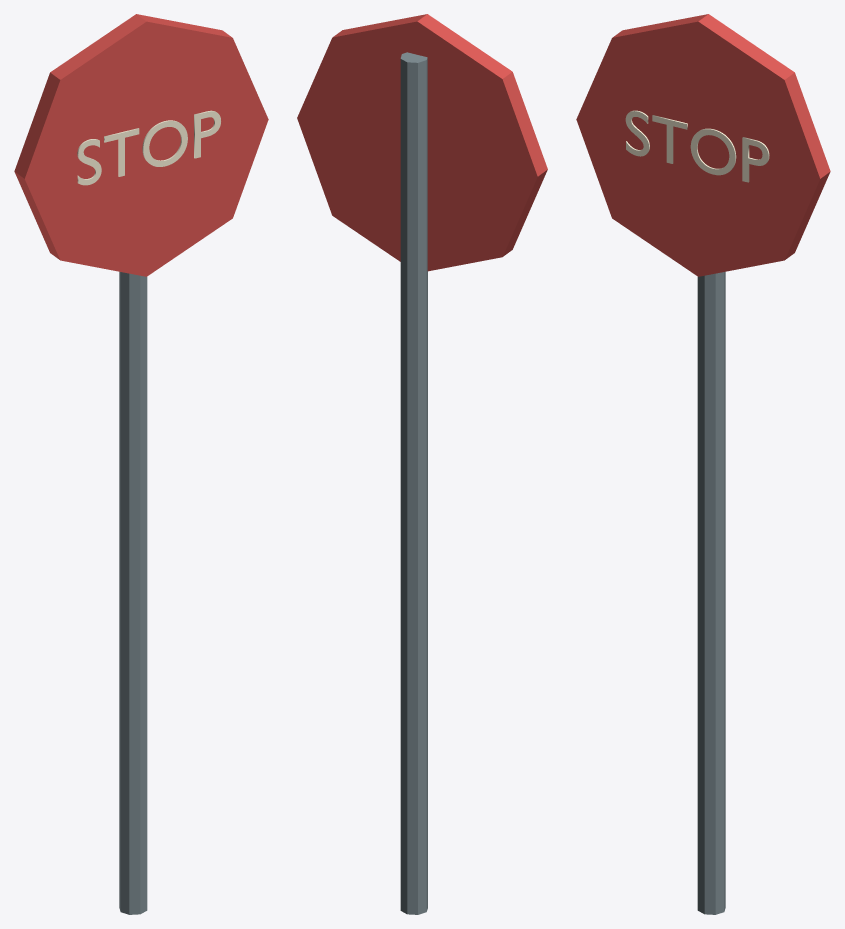
The model's file is StreetSign_Stop.fbx.
3 renders of one model, left to right at view 1: azimuth 30°, elevation 25°; view 2: azimuth 150°, elevation 25°; view 3: azimuth 330°, elevation 25°, orthographic.
Visible parts, largest first — view 1: Octagon, Pole.003, StopText; view 2: Octagon, Pole.003; view 3: Octagon, Pole.003, StopText.
Part boxes in pixels (<box>): Octagon: <box>14,14,268,276</box>; Pole.003: <box>119,271,147,914</box>; StopText: <box>77,110,220,185</box>; Octagon: <box>297,14,547,271</box>; Pole.003: <box>400,52,427,914</box>; Octagon: <box>576,14,830,276</box>; Pole.003: <box>697,271,725,914</box>; StopText: <box>625,110,769,182</box>.
Bounding box in the file's own units: 0.68 × 2.39 × 0.11.
